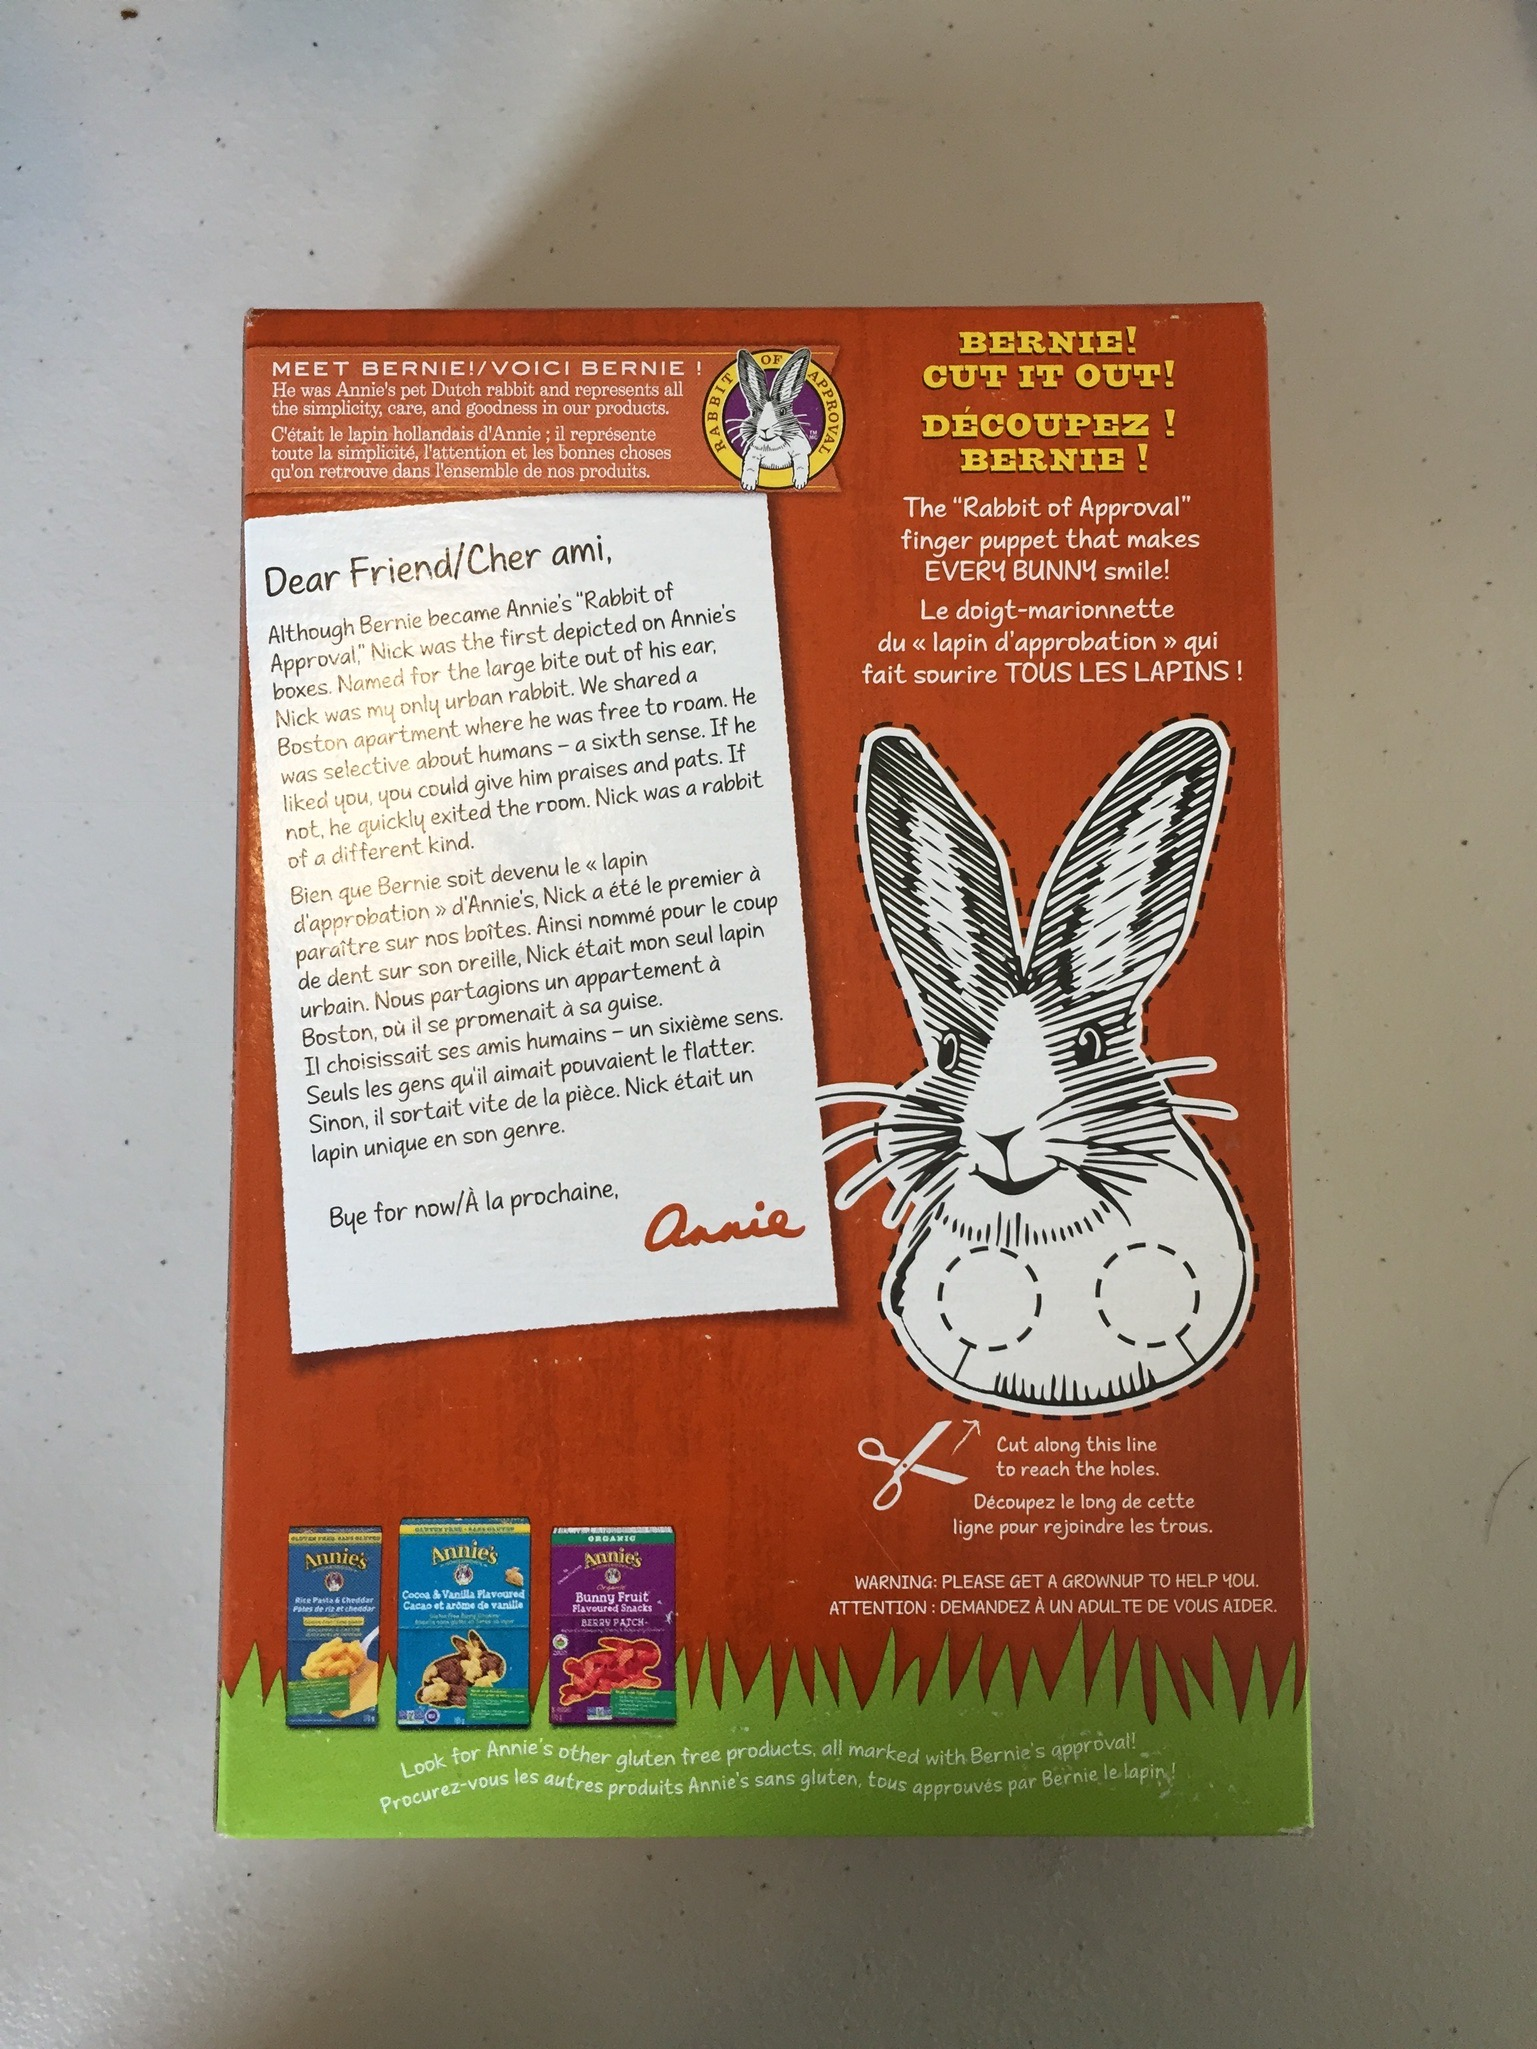annies_snickerdoodle_cinnamon_sugar: (253, 310, 1293, 1834)
